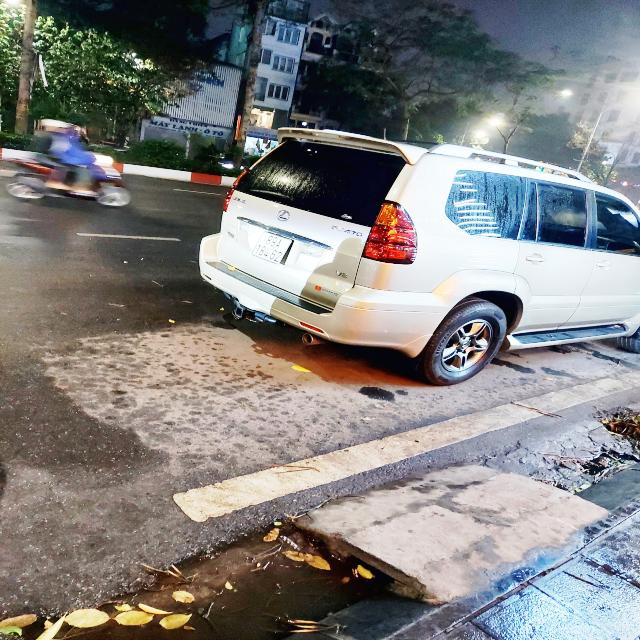license_plate: (252, 232, 293, 266)
